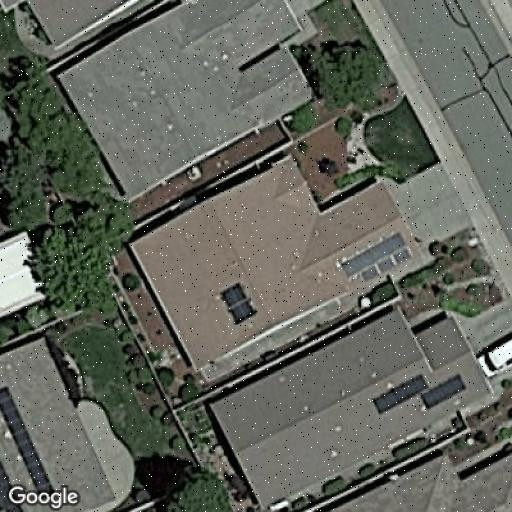solar-panel: (0, 388, 52, 512), (370, 372, 466, 416), (338, 230, 412, 284), (216, 280, 260, 326)
